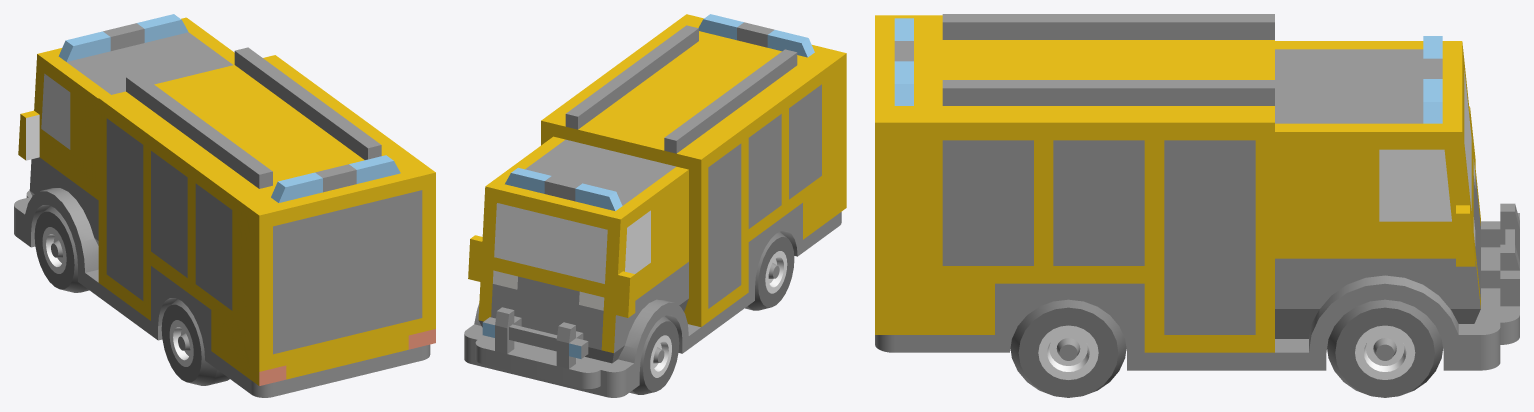
Rendered from firetruck.glb.
3 views of the same model, side by side, from view 1: azimuth 30°, elevation 25°; view 2: azimuth 150°, elevation 25°; view 3: azimuth 270°, elevation 25° (orthographic). The views are drawn at different scales.
Parts seen in each view (by area): view 1: body, wheel_backLeft, wheel_frontLeft; view 2: body, grill, wheel_frontLeft, wheel_backLeft; view 3: body, wheel_backRight, wheel_frontRight, grill.
Boxes of the visible parts, box(x1,y1,x2,y2) form: body: box(14, 14, 435, 397); wheel_backLeft: box(161, 299, 229, 385); wheel_frontLeft: box(34, 206, 89, 292); body: box(464, 14, 846, 397); grill: box(475, 307, 600, 388); wheel_frontLeft: box(629, 316, 679, 394); wheel_backLeft: box(745, 232, 794, 310); body: box(875, 14, 1500, 370); wheel_backRight: box(1010, 299, 1126, 397); wheel_frontRight: box(1327, 299, 1442, 397); grill: box(1481, 203, 1519, 344).
Size of the model in its own units: 1.3 by 1.7 by 3.3.
